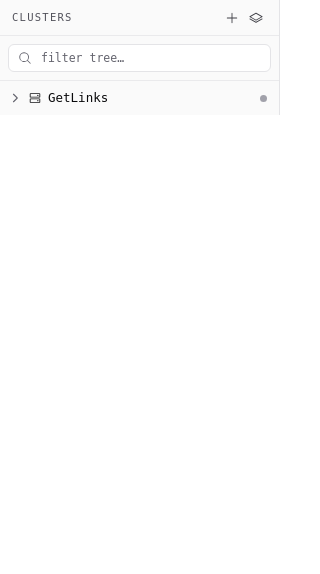
it: starts collapsed again when the sidebar remounts
Step 1. Click the 3rd button → (15, 98), box x1=8 y1=92 x2=22 y2=104
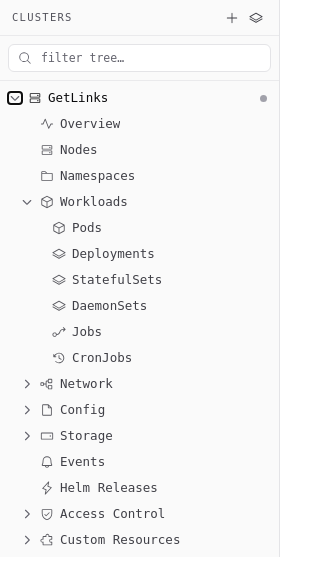
Now the text "Overview" is shown, box x1=60 y1=115 x2=120 y2=133
